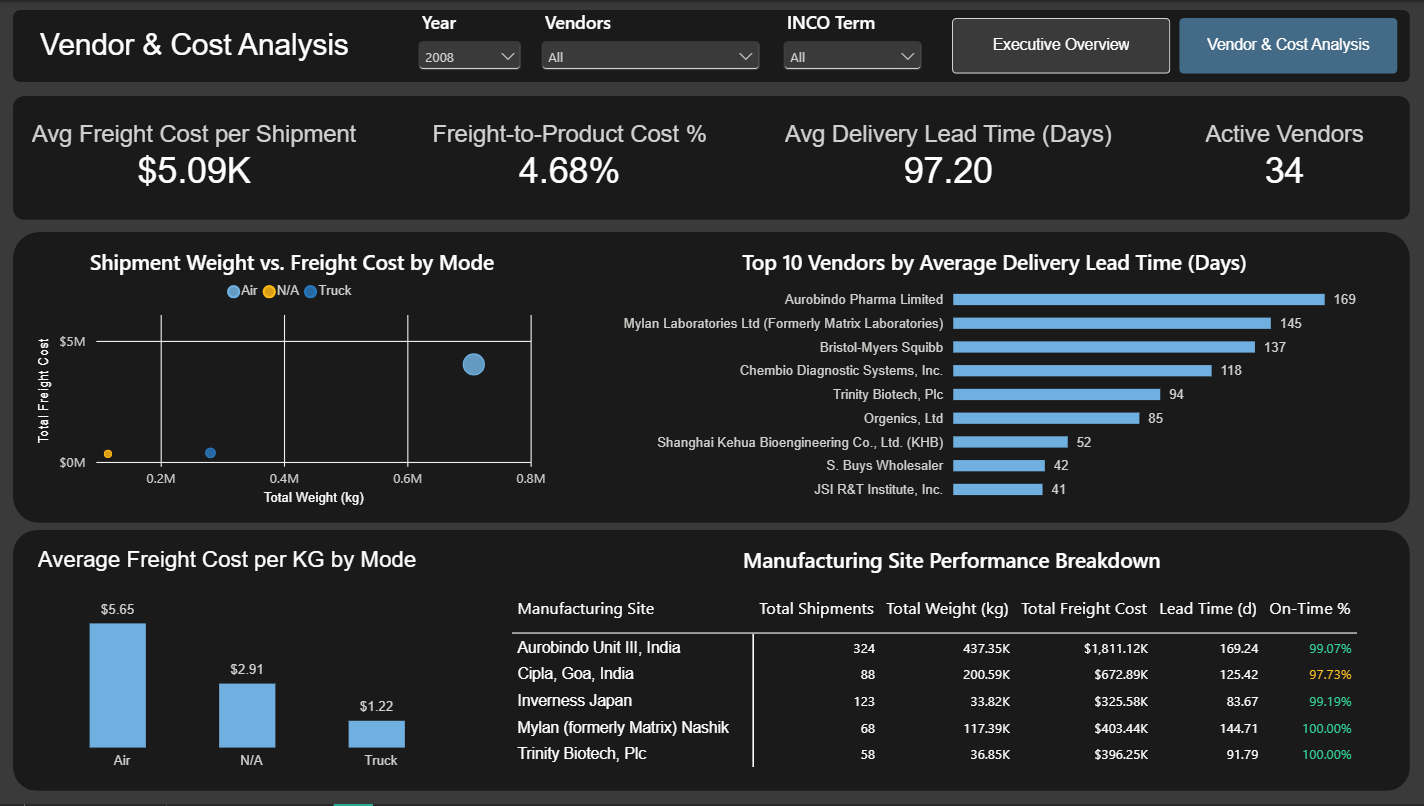

The dashboard page shown, as its layout file describes it:
{"tool":"powerbi","page":{"name":"Vendor & Cost Analysis","canvas":[1280,720],"ordinal":1},"visuals":[{"type":"shape","box":[12.6,7.2,1254.2,64.6],"z":0},{"type":"shape","box":[12.6,84.4,1254.2,111.3],"z":1000},{"type":"shape","box":[12.6,206.5,1254.2,261.2],"z":2000},{"type":"shape","box":[12.6,474,1254.2,234.3],"z":3000},{"type":"cardVisual","fields":{"Data":["_Measures.Avg Freight Cost per Shipment"]},"box":[12.6,84.4,325.9,111.3],"z":6000},{"type":"cardVisual","fields":{"Data":["_Measures.Active Vendors"]},"box":[1053.1,84.4,202.9,111],"z":7000},{"type":"cardVisual","fields":{"Data":["_Measures.Avg Lead Time (Days)"]},"box":[687.7,84.4,329.5,111.3],"z":8000},{"type":"cardVisual","fields":{"Data":["_Measures.Freight %"]},"box":[372,84.4,281.9,111.3],"z":9000},{"type":"scatterChart","title":"Shipment Weight vs. Freight Cost by Mode","fields":{"Category":["Raw_Data.Shipment Mode"],"Series":["Raw_Data.Shipment Mode"],"Size":["_Measures.Total Shipments"],"X":["_Measures.Total Weight (kg)"],"Y":["_Measures.Total Freight Cost"]},"box":[18.9,206.5,488.4,261.2],"z":10000},{"type":"clusteredBarChart","title":"Top 10 Vendors by Average Delivery Lead Time (Days)","fields":{"Category":["Raw_Data.Vendors"],"Y":["_Measures.Avg Delivery Lead Time (Days)"]},"box":[520.7,206.5,746,261.2],"z":11000},{"type":"pivotTable","title":"Manufacturing Site Performance Breakdown","fields":{"Rows":["Raw_Data.Manufacturing Site"],"Values":["_Measures.Total Shipments","_Measures.Total Weight (kg)","_Measures.Total Freight Cost","_Measures.Avg Delivery Lead Time (Days)","_Measures.On-Time Delivery %"]},"box":[444.5,473.7,821.9,234.4],"z":12000},{"type":"textbox","box":[36.8,7.2,816.1,64.6],"z":13000},{"type":"slicer","fields":{"Values":["Raw_Data.Vendor INCO Term"]},"box":[699.4,7.2,133.8,64.6],"z":14000},{"type":"slicer","fields":{"Values":["Dim_Date.Year"]},"box":[371.7,7.2,102.3,64.6],"z":15000},{"type":"slicer","fields":{"Values":["Raw_Data.Vendors"]},"box":[482.1,7.2,205.6,64.6],"z":16000},{"type":"clusteredColumnChart","title":"Average Freight Cost per KG by Mode","fields":{"Category":["Raw_Data.Shipment Mode"],"Y":["_Measures.Avg Freight Cost per kg"]},"box":[18.9,474.9,415.7,233.4],"z":16001},{"type":"pageNavigator","box":[855.6,14.4,400,50],"z":16002}]}

Visuals, with their boxes in screenshot pixels (x1, y1, x2, y2), scaled from the page's 1280x720 canvas onto the 1424x806 screenshot:
shape: 14:8:1409:80
shape: 14:94:1409:219
shape: 14:231:1409:524
shape: 14:531:1409:793
cardVisual - _Measures.Avg Freight Cost per Shipment: 14:94:377:219
cardVisual - _Measures.Active Vendors: 1172:94:1397:219
cardVisual - _Measures.Avg Lead Time (Days): 765:94:1132:219
cardVisual - _Measures.Freight %: 414:94:727:219
"Shipment Weight vs. Freight Cost by Mode" scatterChart: 21:231:564:524
"Top 10 Vendors by Average Delivery Lead Time (Days)" clusteredBarChart: 579:231:1409:524
"Manufacturing Site Performance Breakdown" pivotTable: 495:530:1409:793
textbox: 41:8:949:80
slicer - Raw_Data.Vendor INCO Term: 778:8:927:80
slicer - Dim_Date.Year: 414:8:527:80
slicer - Raw_Data.Vendors: 536:8:765:80
"Average Freight Cost per KG by Mode" clusteredColumnChart: 21:532:483:793
pageNavigator: 952:16:1397:72
